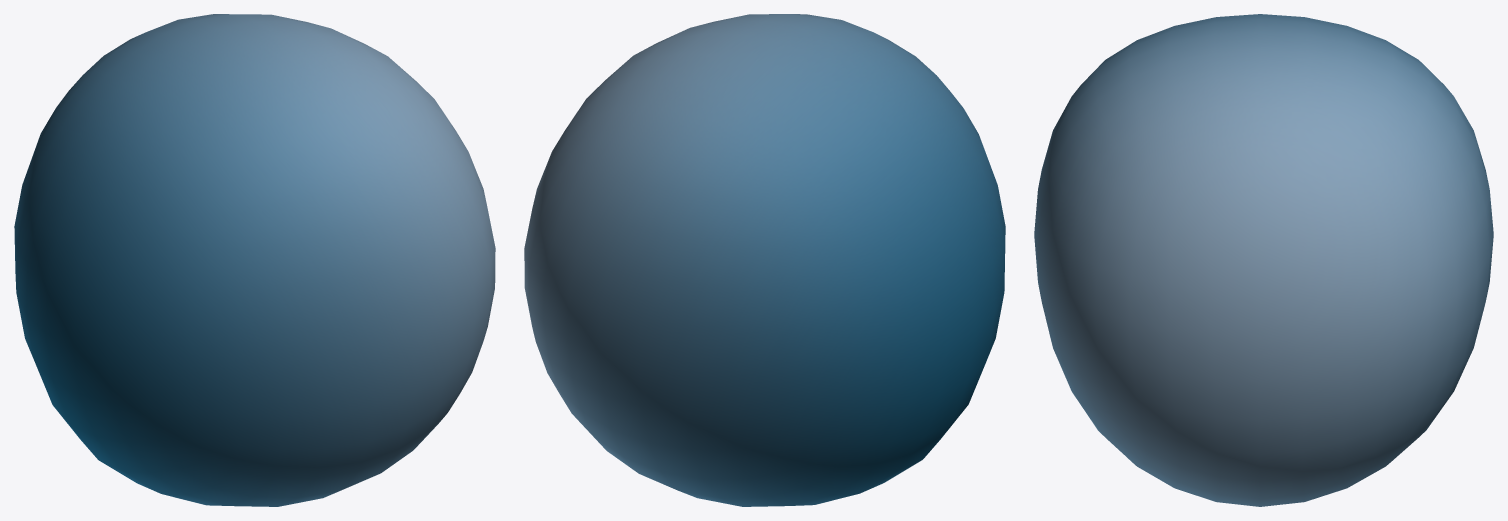
Rendered from Cuerpo_Personaje.glb.
3 renders of one model, left to right at view 1: azimuth 30°, elevation 25°; view 2: azimuth 150°, elevation 25°; view 3: azimuth 270°, elevation 25°, orthographic.
Visible parts, largest first — view 1: Cuerpo; view 2: Cuerpo; view 3: Cuerpo.
Boxes of the visible parts, x1,y1,x2,y2 form: Cuerpo: [14, 14, 495, 506]; Cuerpo: [524, 14, 1005, 506]; Cuerpo: [1034, 14, 1493, 506].
Bounding box in the file's own units: 0.6035 × 0.6274 × 0.5909.
1 material, 1 textured.
